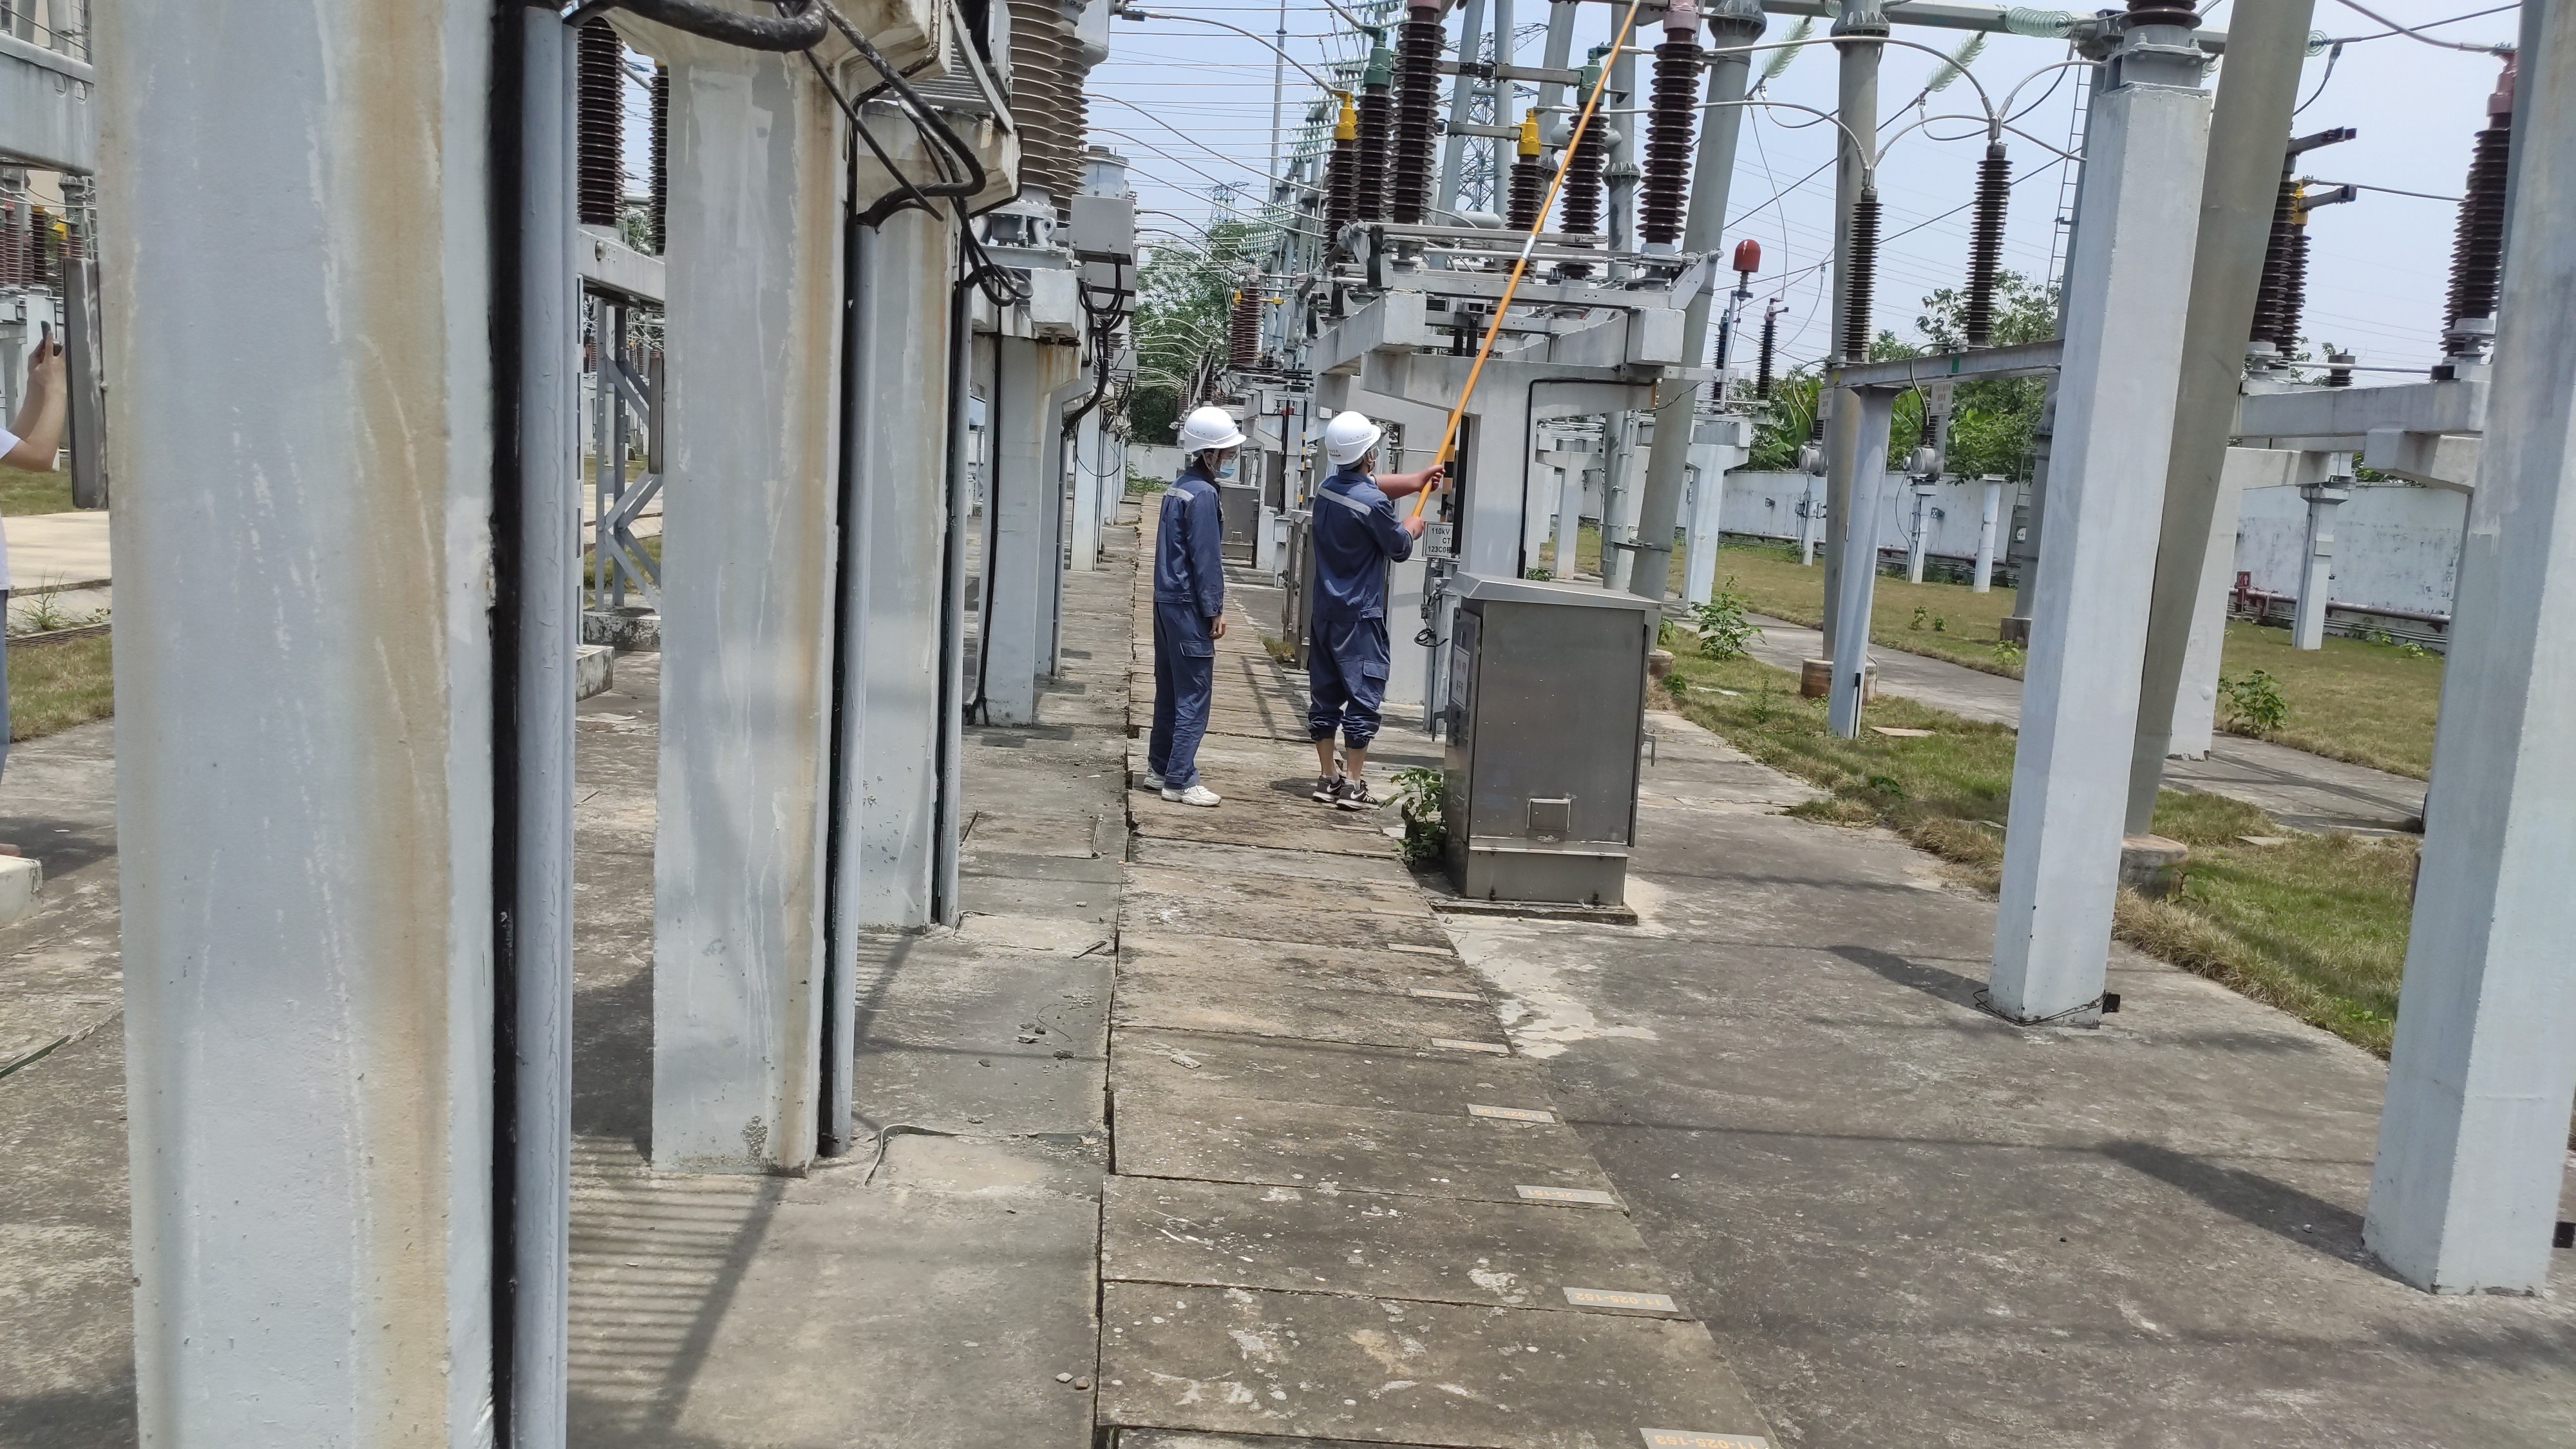downsuit: (1148, 617, 1223, 784), (1304, 623, 1392, 747)
upsuit: (1311, 472, 1408, 610), (1157, 472, 1230, 609)
wrongbottom: (1311, 720, 1384, 798)
